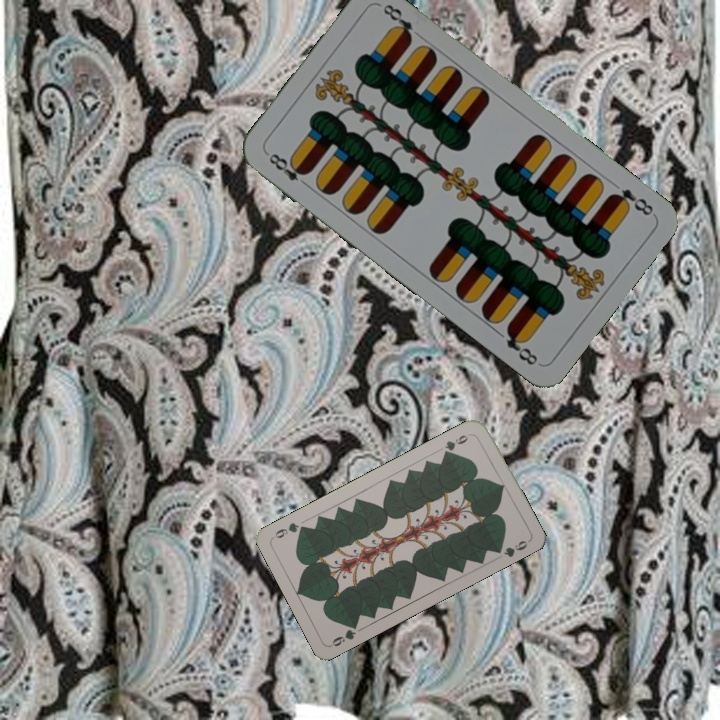E8: (262, 148, 312, 191), (605, 184, 656, 219)
G9: (327, 618, 361, 649), (440, 429, 475, 458)
